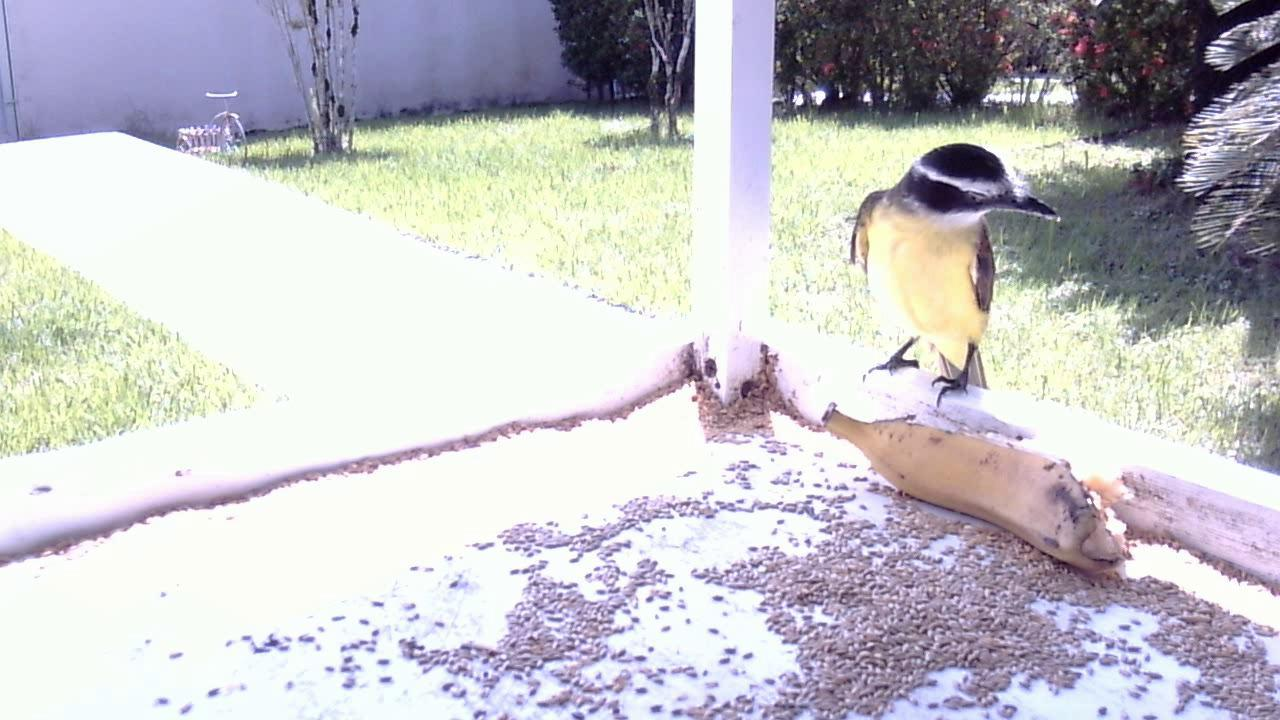bem_te_vi: (840, 138, 1062, 422)
